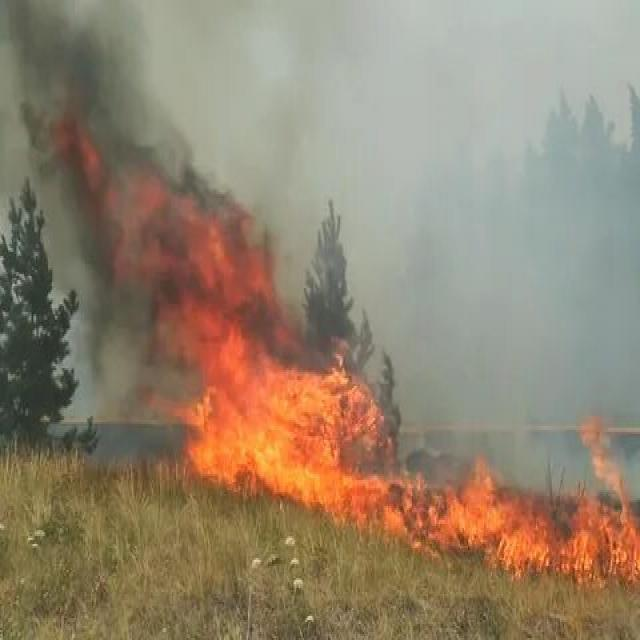Fire: (180, 341, 640, 569)
Smoke: (0, 20, 640, 371)
